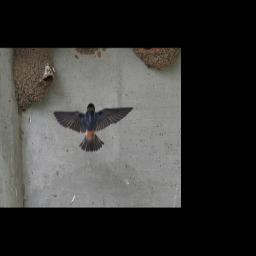Swallow: (52, 101, 136, 152)
